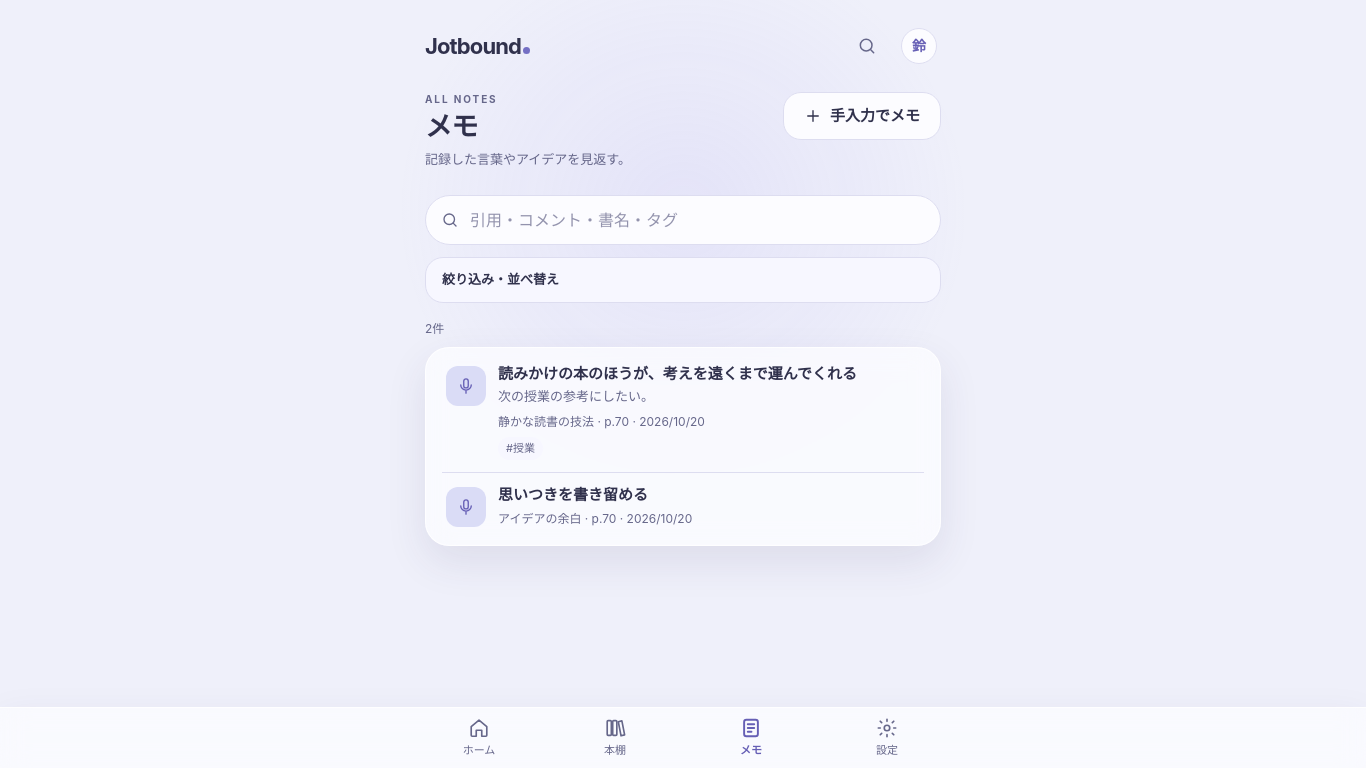
Test: メモ一覧 › 検索・絞り込みができ、検索0件の文言を出す
The width and height of the screenshot is (1366, 768).
Type "授業" into the search field named "メモを検索". click: (683, 220)
box: [425,195,941,245]
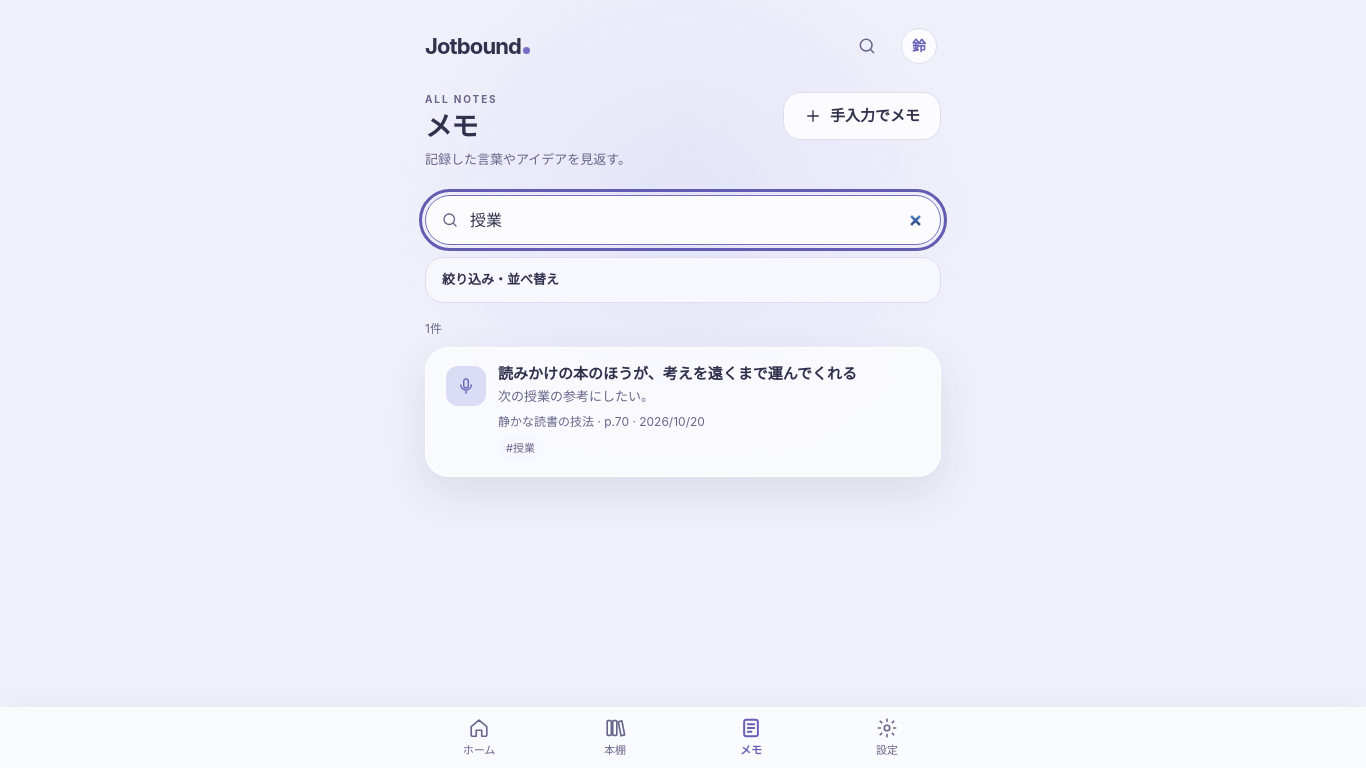
Clear the search field named "メモを検索". click: (683, 220)
box: [425,195,941,245]
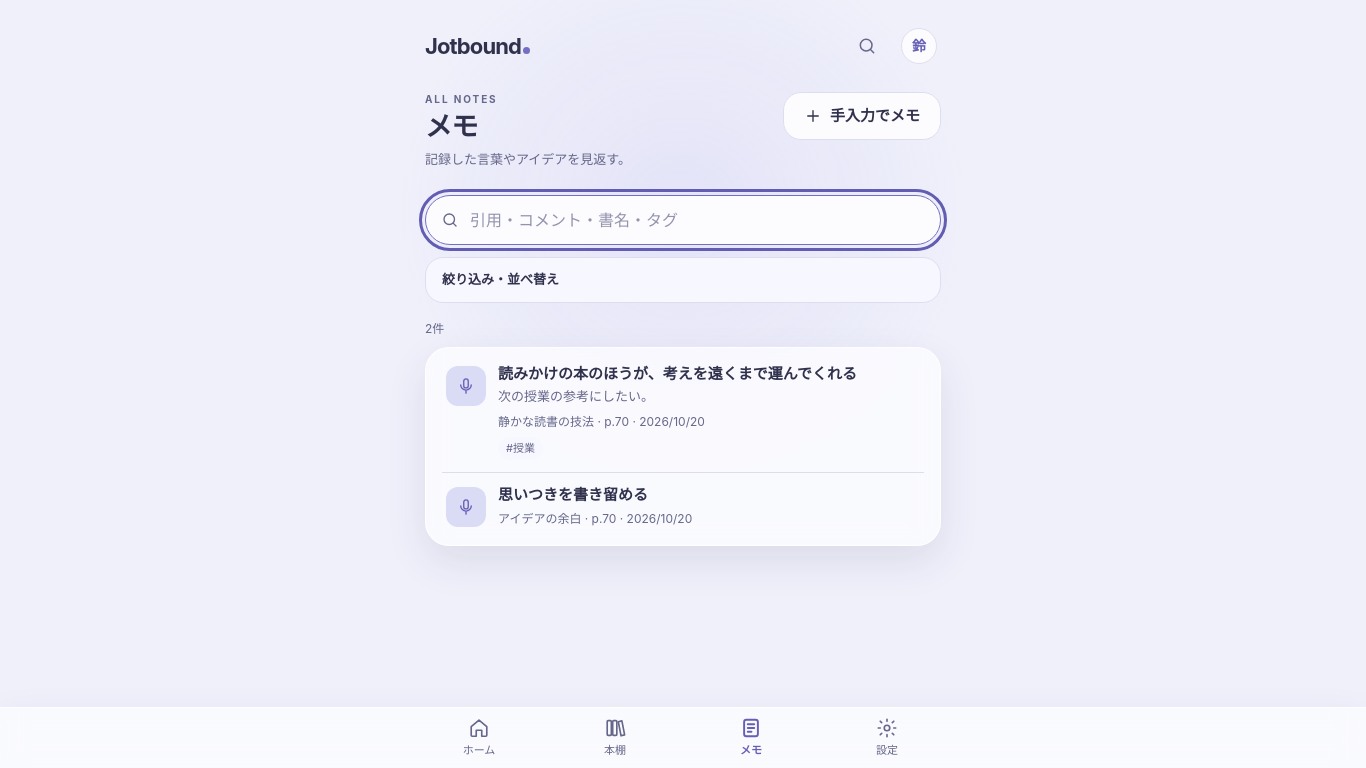
Click the heading "絞り込み・並べ替え". click: click(500, 279)
box: [442,271,559,287]
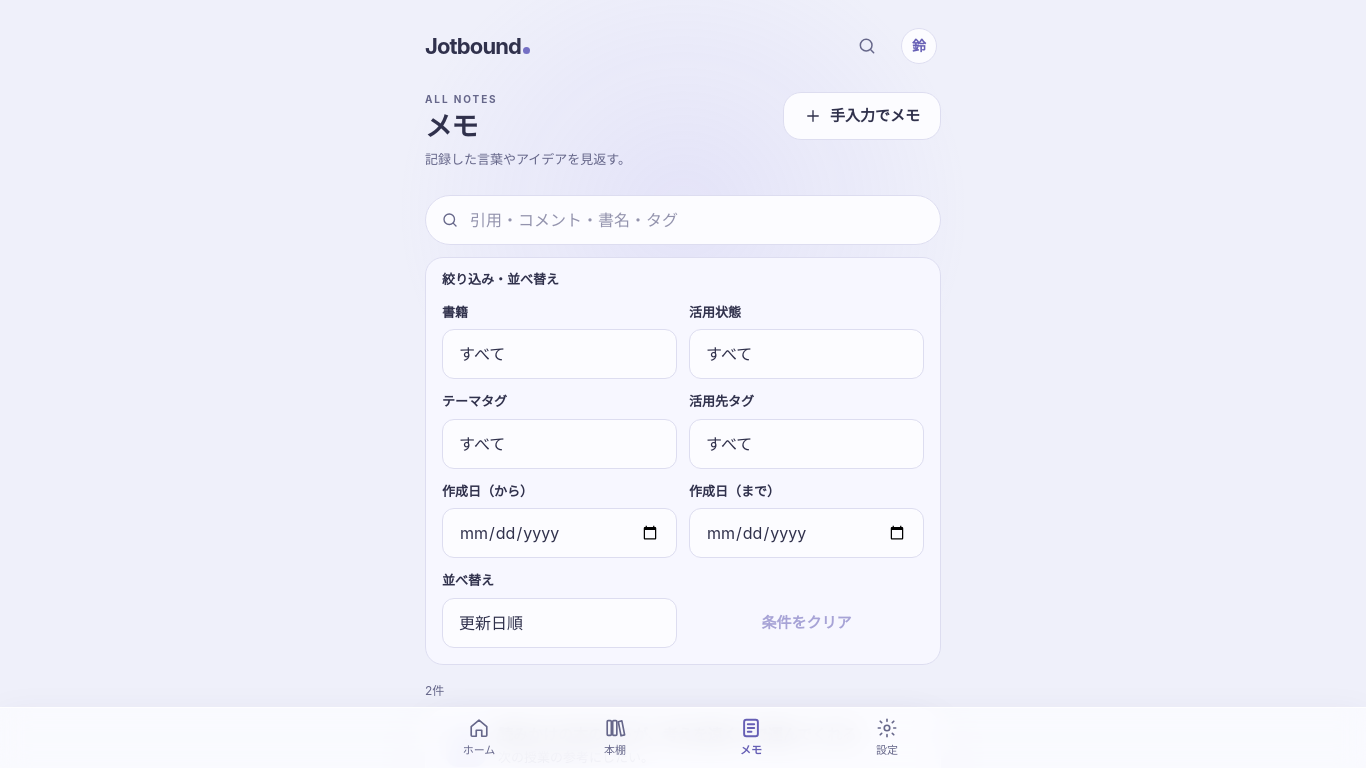
Select "活用済み" in the dropdown labelled "活用状態". click: (806, 354)
box: [689,329,924,379]
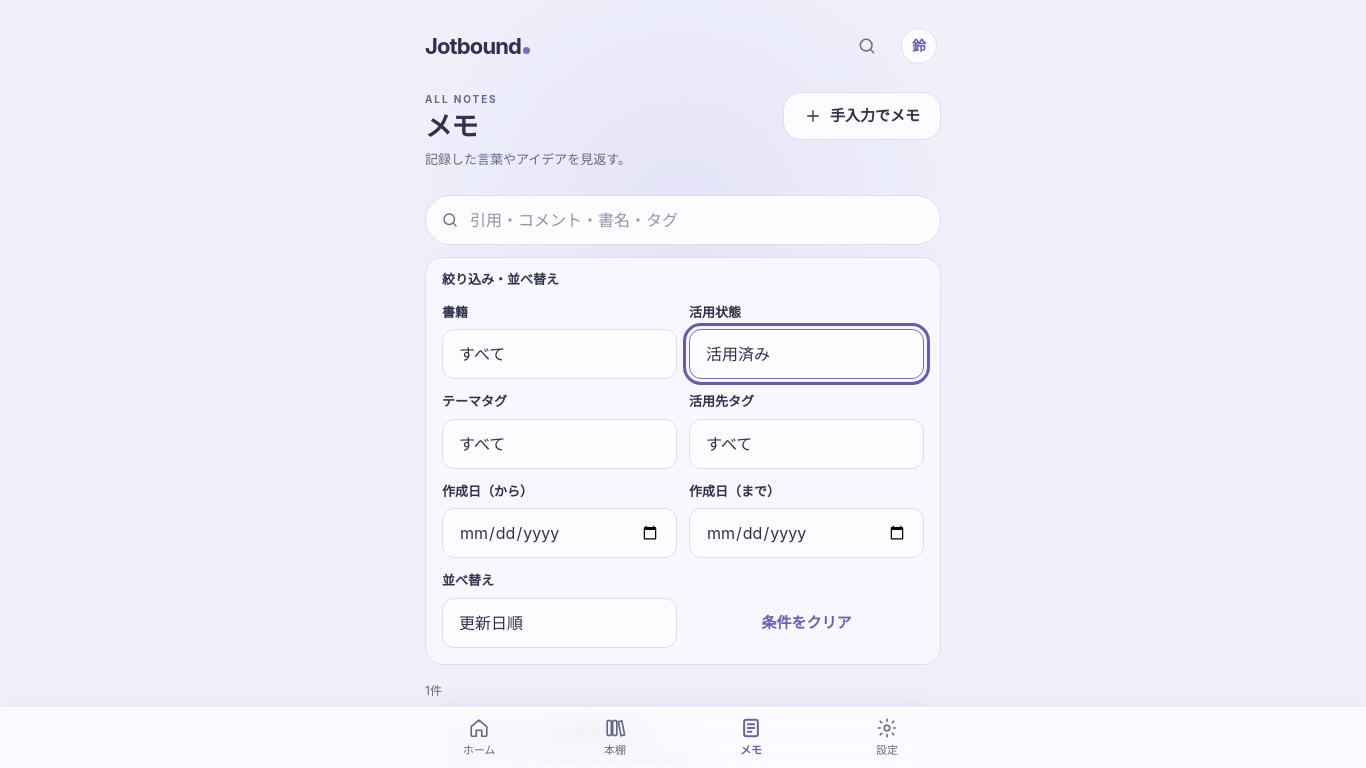
Expected: the link "思いつきを書き留める アイデアの余白 · p.70 · 2026/10/20" is shown, [446,725,692,767]
Type "存在しない語" into the search field named "メモを検索". click: (683, 220)
box: [425,195,941,245]
(page scrolled)
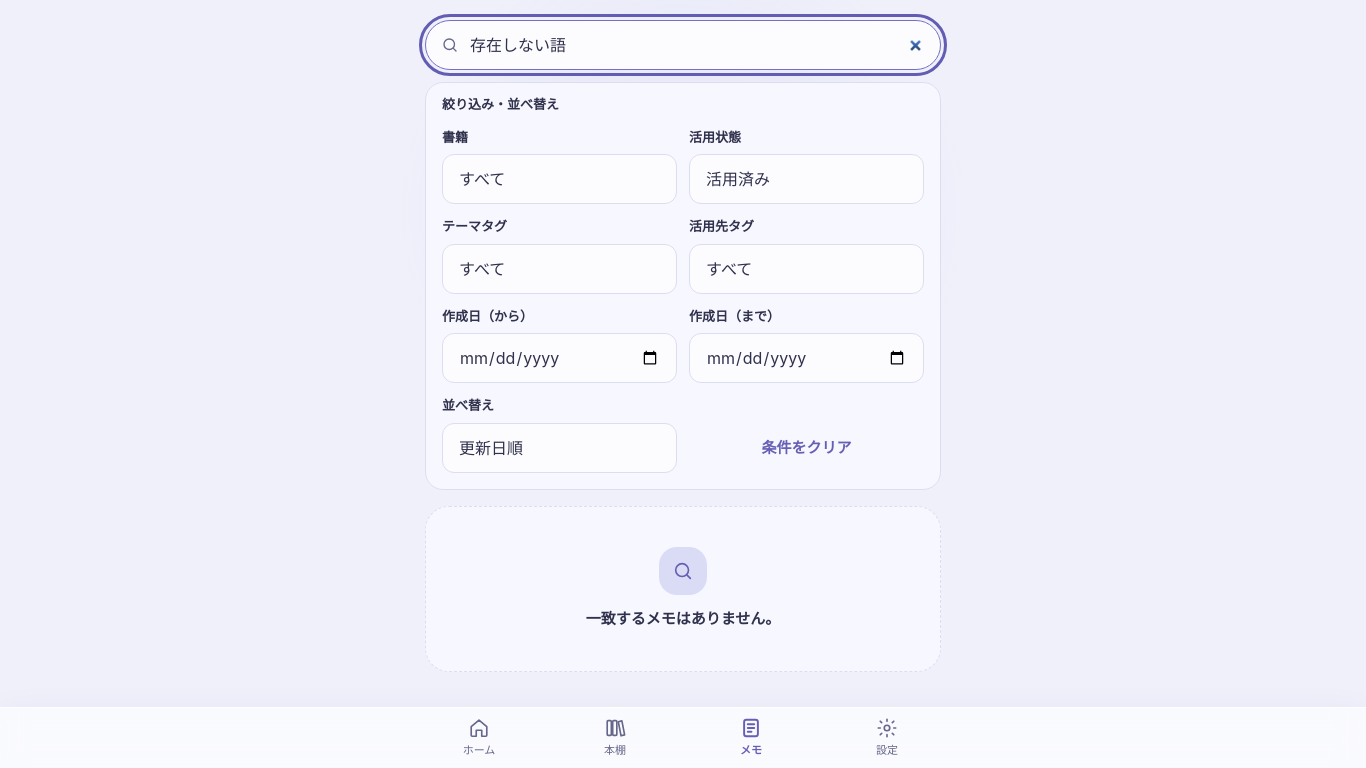
Expected: the text "一致するメモはありません。" is shown, [586,607,780,631]
